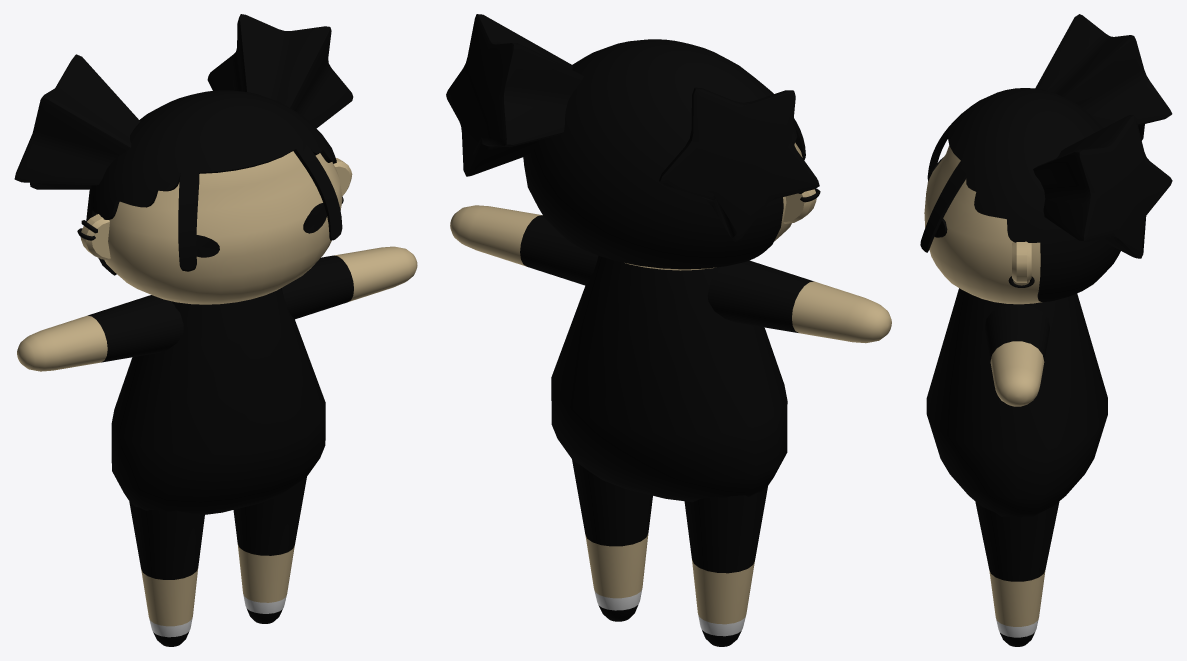
The model's file is girl.fbx.
3 views of the same model, side by side, from view 1: azimuth 30°, elevation 25°; view 2: azimuth 150°, elevation 25°; view 3: azimuth 270°, elevation 25° (orthographic). The views are drawn at different scales.
Parts seen in each view (by area): view 1: Cylinder008, Sphere003, Sphere002, Star003, Star004, Cylinder009, Cylinder011, Cylinder012, Cylinder010, Cylinder013; view 2: Cylinder008, Sphere002, Star003, Star004, Cylinder009, Cylinder011, Cylinder012, Cylinder010, Cylinder013; view 3: Cylinder008, Sphere002, Star004, Star003, Sphere003, Cylinder012, Cylinder010, Cylinder014.
Boxes of the visible parts, left/top/right/bottom form: Cylinder008: left=111, top=288, right=325, bottom=515; Sphere003: left=96, top=151, right=342, bottom=304; Sphere002: left=86, top=90, right=342, bottom=275; Star003: left=14, top=54, right=140, bottom=189; Star004: left=207, top=14, right=353, bottom=128; Cylinder009: left=17, top=295, right=183, bottom=371; Cylinder011: left=129, top=501, right=204, bottom=646; Cylinder012: left=233, top=477, right=306, bottom=623; Cylinder010: left=282, top=246, right=417, bottom=319; Cylinder013: left=80, top=214, right=110, bottom=259; Cylinder008: left=551, top=256, right=787, bottom=502; Sphere002: left=523, top=39, right=805, bottom=269; Star003: left=659, top=87, right=819, bottom=241; Star004: left=446, top=14, right=583, bottom=176; Cylinder009: left=707, top=260, right=891, bottom=343; Cylinder011: left=684, top=486, right=767, bottom=646; Cylinder012: left=572, top=459, right=652, bottom=621; Cylinder010: left=450, top=205, right=598, bottom=285; Cylinder013: left=783, top=189, right=816, bottom=223; Cylinder008: left=926, top=288, right=1107, bottom=517; Sphere002: left=920, top=88, right=1120, bottom=301; Star004: left=1033, top=115, right=1172, bottom=258; Star003: left=1035, top=14, right=1172, bottom=140; Sphere003: left=924, top=146, right=1041, bottom=304; Cylinder012: left=975, top=501, right=1059, bottom=646; Cylinder010: left=984, top=304, right=1049, bottom=406; Cylinder014: left=1012, top=241, right=1031, bottom=282.
Size of the model in its own units: 23.29 by 31.42 by 13.15.
